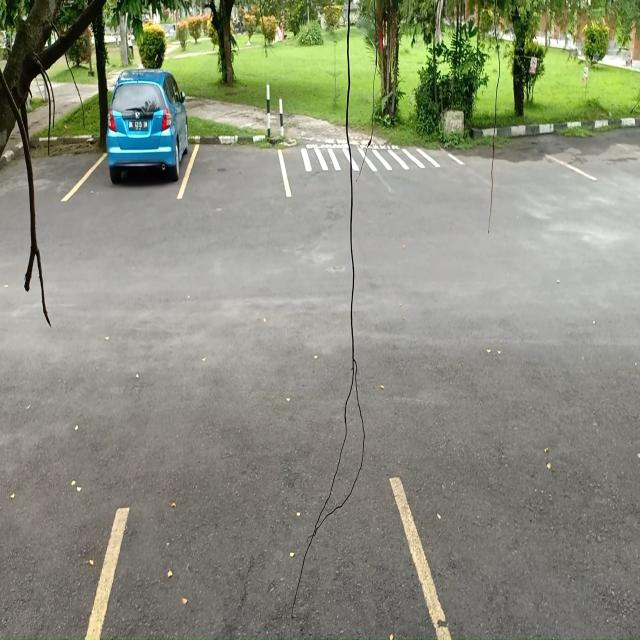empty: (95, 507, 433, 640), (184, 119, 288, 204)
occupied: (94, 112, 190, 202)
